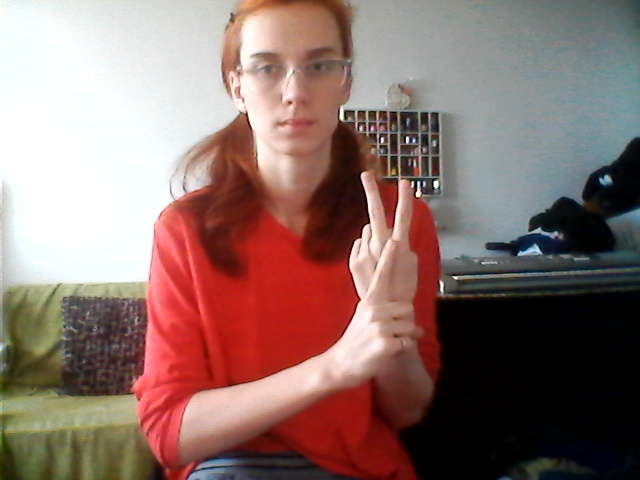y: (321, 169, 436, 391)
